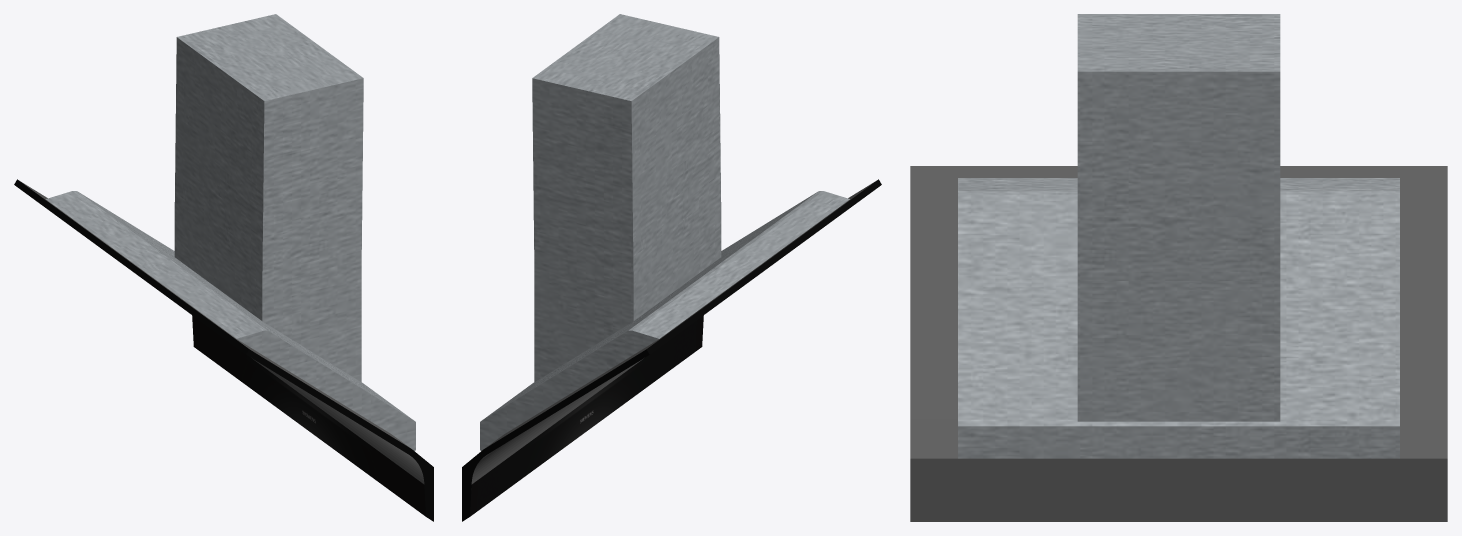
3 views of the same model, side by side, from view 1: azimuth 30°, elevation 25°; view 2: azimuth 150°, elevation 25°; view 3: azimuth 270°, elevation 25° (orthographic). The views are drawn at different scales.
Visible parts, largest first — view 1: mesh_2_ROOT_Layer0_182_187_190_ss, mesh_7_ROOT_Layer0_37_36_36_ss, mesh_0_ROOT_Layer0_0_0_0_ss, mesh_4_ROOT_Layer0_30_30_30_ss; view 2: mesh_2_ROOT_Layer0_182_187_190_ss, mesh_7_ROOT_Layer0_37_36_36_ss, mesh_0_ROOT_Layer0_0_0_0_ss, mesh_4_ROOT_Layer0_30_30_30_ss; view 3: mesh_2_ROOT_Layer0_182_187_190_ss, mesh_4_ROOT_Layer0_30_30_30_ss.
Boxes of the visible parts, x1,y1,x2,y2 form: mesh_2_ROOT_Layer0_182_187_190_ss: (46,14,415,450); mesh_7_ROOT_Layer0_37_36_36_ss: (192,315,425,516); mesh_0_ROOT_Layer0_0_0_0_ss: (14,179,433,521); mesh_4_ROOT_Layer0_30_30_30_ss: (19,180,424,484); mesh_2_ROOT_Layer0_182_187_190_ss: (480,14,849,450); mesh_7_ROOT_Layer0_37_36_36_ss: (470,315,703,516); mesh_0_ROOT_Layer0_0_0_0_ss: (462,179,881,521); mesh_4_ROOT_Layer0_30_30_30_ss: (471,180,876,484); mesh_2_ROOT_Layer0_182_187_190_ss: (958,14,1399,458); mesh_4_ROOT_Layer0_30_30_30_ss: (910,166,1447,521).
Bounding box in the file's own units: 426 × 837 × 900.
Materials: 8 (4 with a texture image).
